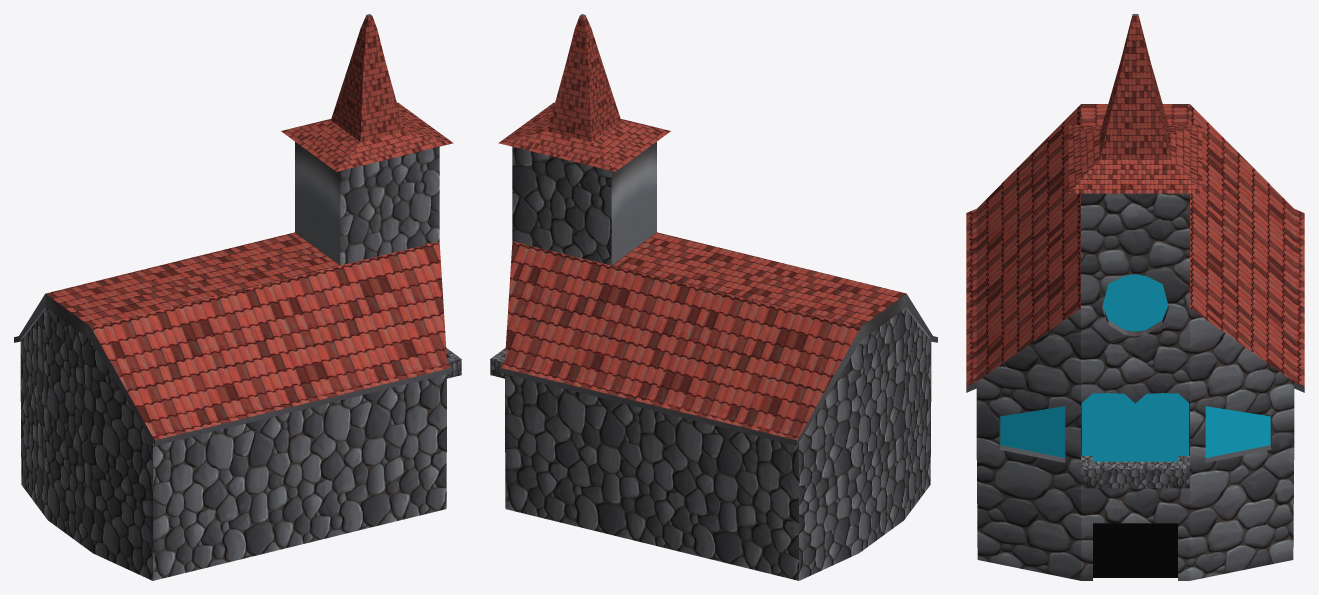
Rendered from IGLESIAREADY.fbx.
The picture shows the model from 3 angles, left to right: view 1: azimuth 30°, elevation 25°; view 2: azimuth 150°, elevation 25°; view 3: azimuth 270°, elevation 25°; orthographic projection. The views are drawn at different scales.
Parts seen in each view (by area): view 1: Cubo; view 2: Cubo; view 3: Cubo.
Part boxes in pixels (x1=…): Cubo: x1=14, y1=14, x2=461, y2=580; Cubo: x1=490, y1=14, x2=937, y2=580; Cubo: x1=966, y1=14, x2=1304, y2=580.
Bounding box in the file's own units: 1699 × 1963 × 1118.
